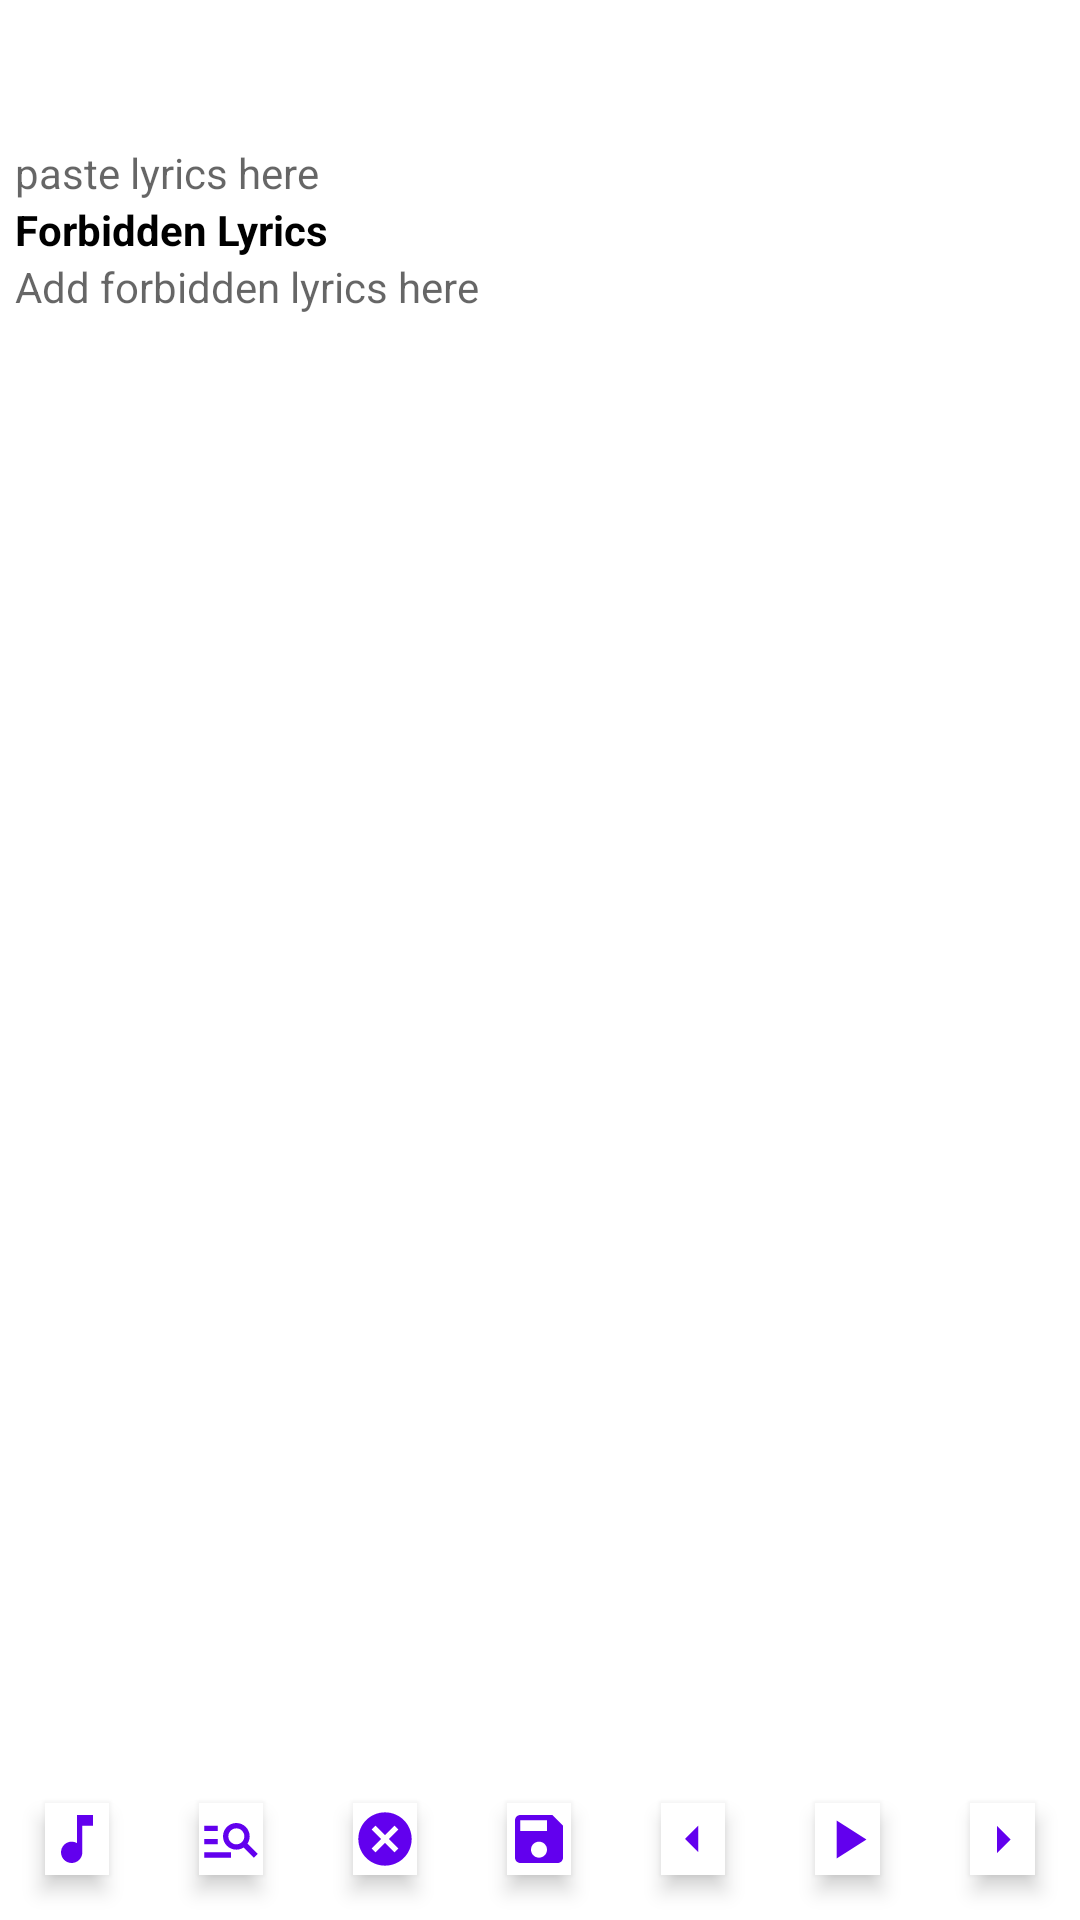

Named icons in this screenshot (1080px x 1920px) and their centers, (x,y):
arrow left: (692,1839)
arrow right: (1004,1839)
cancel: (385,1839)
manage search: (231,1840)
music note: (77,1839)
play arrow: (851,1839)
save: (539,1839)
